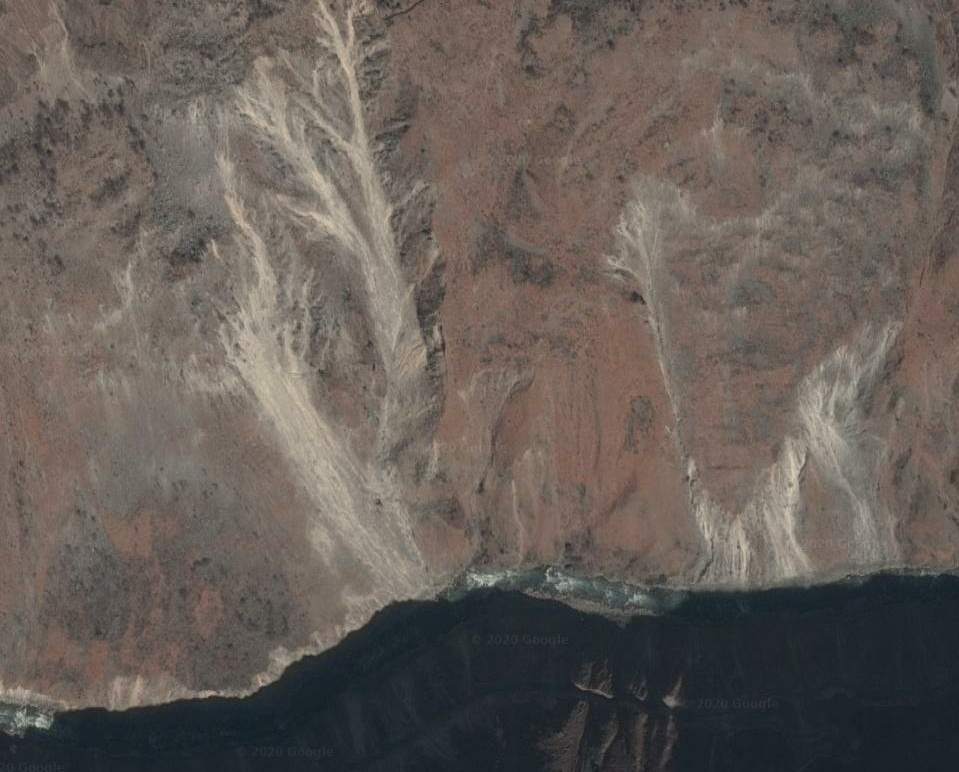slope: (202, 5, 446, 602), (680, 311, 909, 586)
